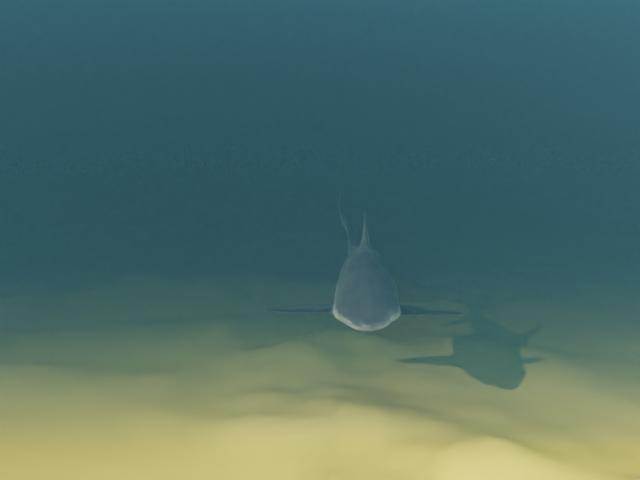Carribean Shark.001: (266, 191, 463, 331)
